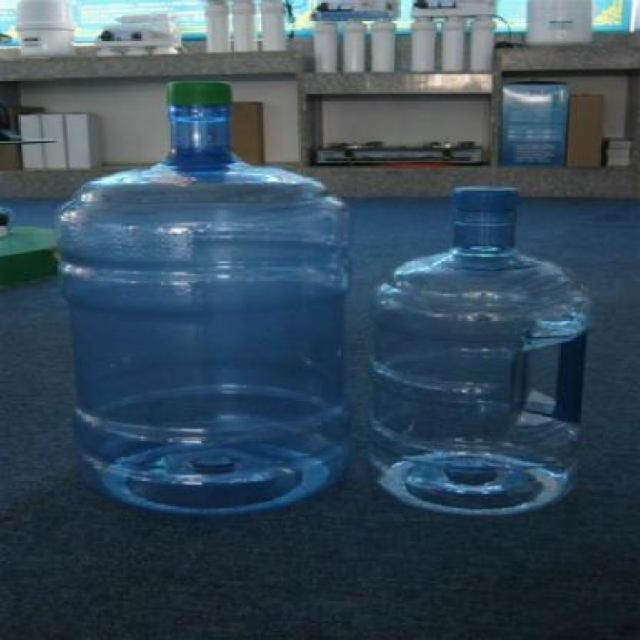coolerbottle: (48, 75, 363, 522), (362, 183, 603, 521)
